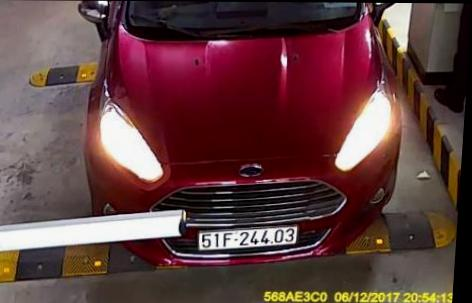License_Plate: (192, 222, 301, 251)
